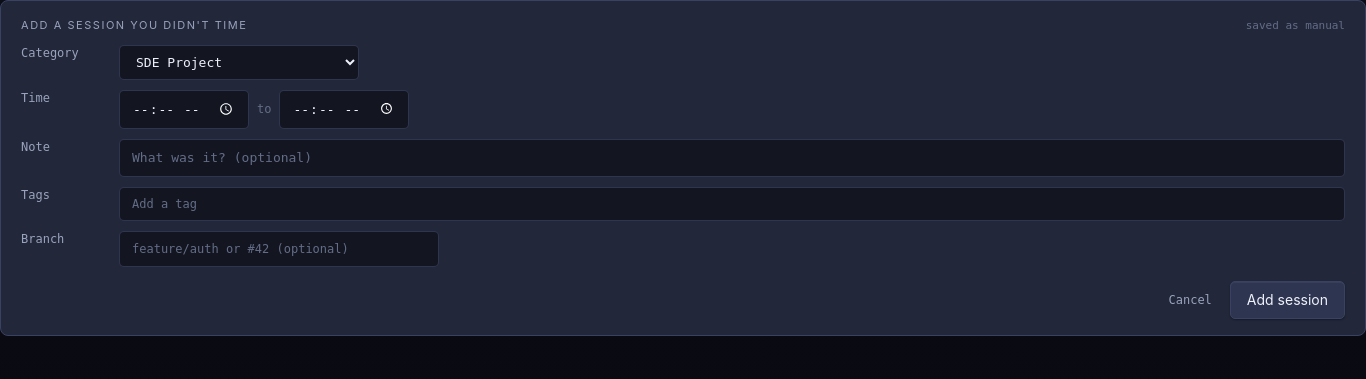
Test: AddSessionForm › shows which session is in the way when the server refuses an overlap
Type "09:30" into the time field named "Start time".
click(184, 109); type("09:30")  # box left=119, top=90, right=249, bottom=129
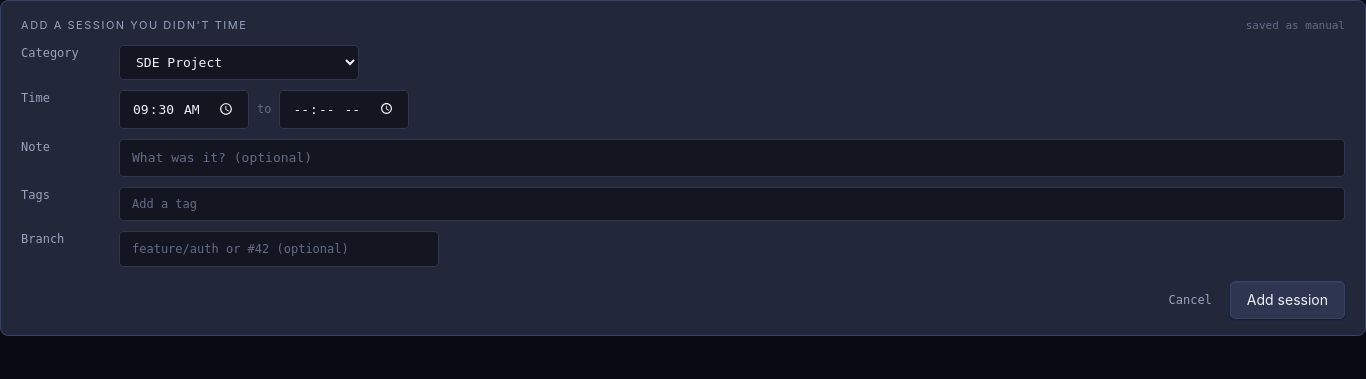
Type "10:30" into the time field named "End time".
click(344, 109); type("10:30")  # box left=280, top=90, right=410, bottom=129
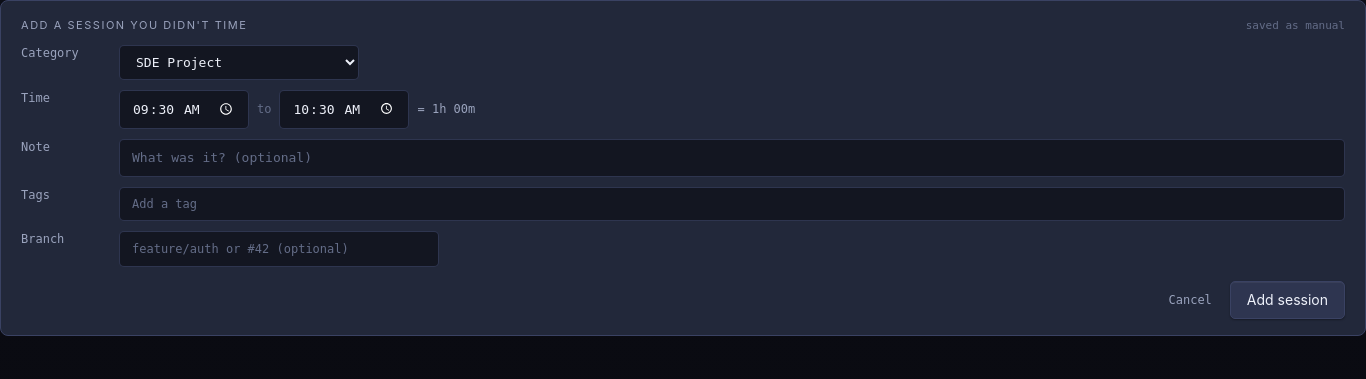
Click the button "Add session".
click(1287, 300)  # box left=1230, top=280, right=1345, bottom=318
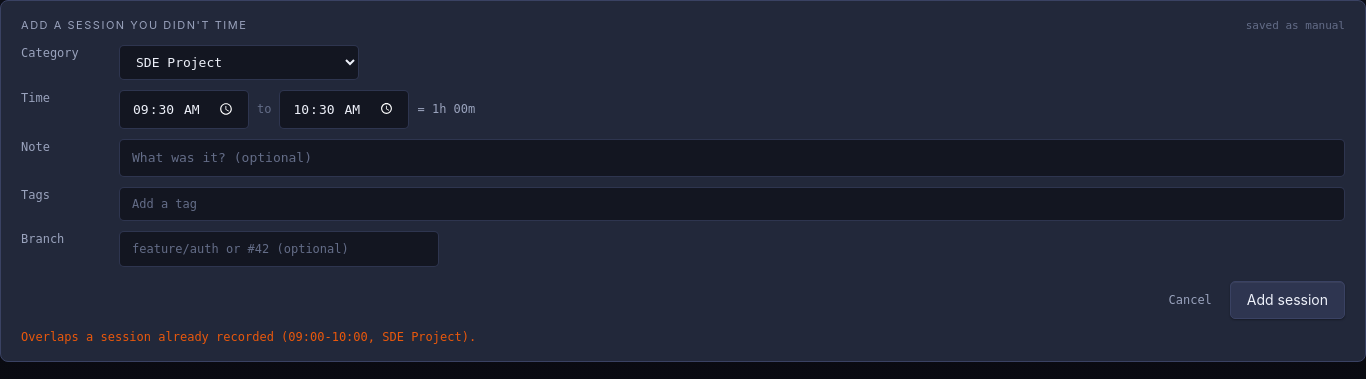
Result: the message shows "09:00-10:00, SDE Project" at left=21, top=330, right=476, bottom=344
